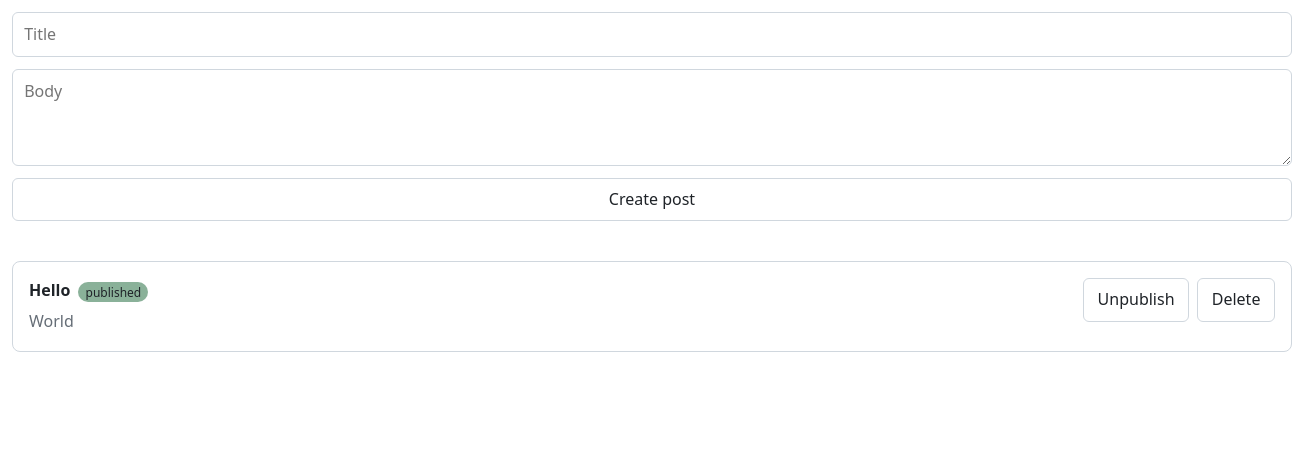
Scenario: PostsPanel › surfaces a rejected mutation instead of swallowing it
Click the button "Unpublish". click: (1136, 300)
box: [1083, 278, 1189, 322]
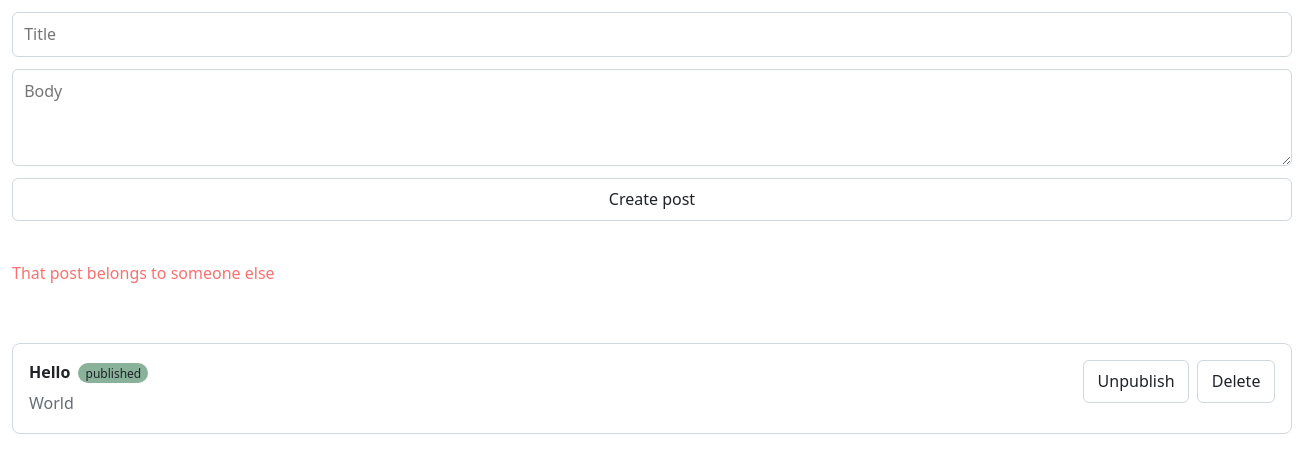
Result: the message "That post belongs to someone else" is shown at [12, 262, 275, 284]
